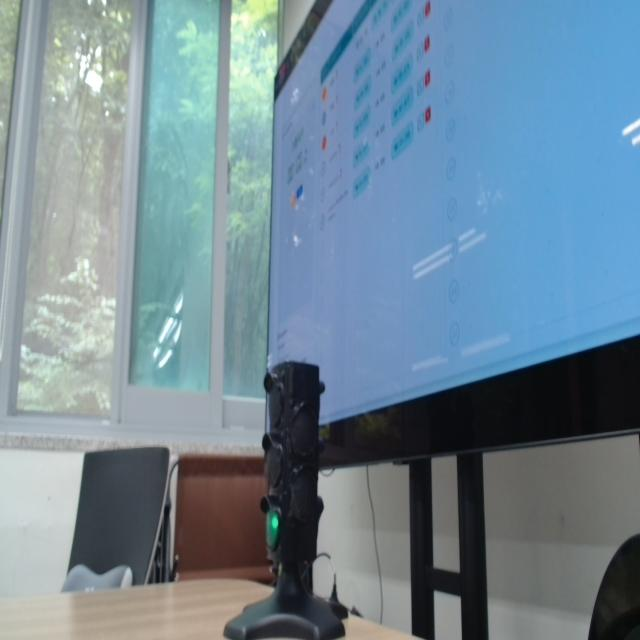green_light: (266, 510, 279, 549), (271, 515, 279, 530)
